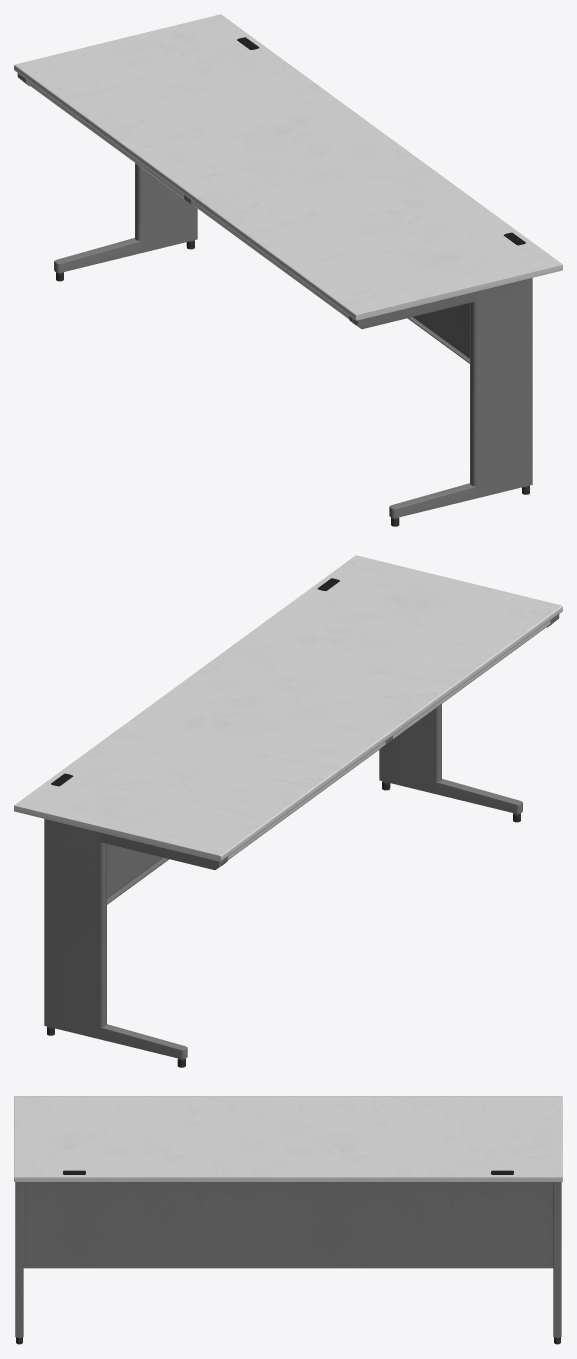
Rendered from SM_Desk_01_140.fbx.
The picture shows the model from 3 angles, top to bottom: view 1: azimuth 30°, elevation 25°; view 2: azimuth 150°, elevation 25°; view 3: azimuth 270°, elevation 25°; orthographic projection. The views are drawn at different scales.
Parts seen in each view (by area): view 1: SM_Desk_01_140_LOD0; view 2: SM_Desk_01_140_LOD0; view 3: SM_Desk_01_140_LOD0.
Boxes of the visible parts, left/top/right/bottom form: SM_Desk_01_140_LOD0: left=14, top=14, right=562, bottom=526; SM_Desk_01_140_LOD0: left=14, top=555, right=562, bottom=1067; SM_Desk_01_140_LOD0: left=14, top=1096, right=562, bottom=1344.
Bounding box in the file's own units: 70 × 200 × 72.3.
